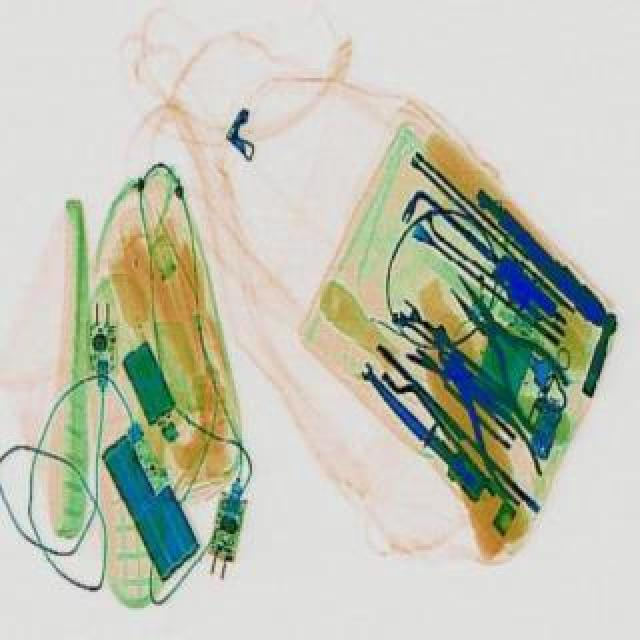wrench: (420, 258, 584, 430), (420, 332, 548, 496)
